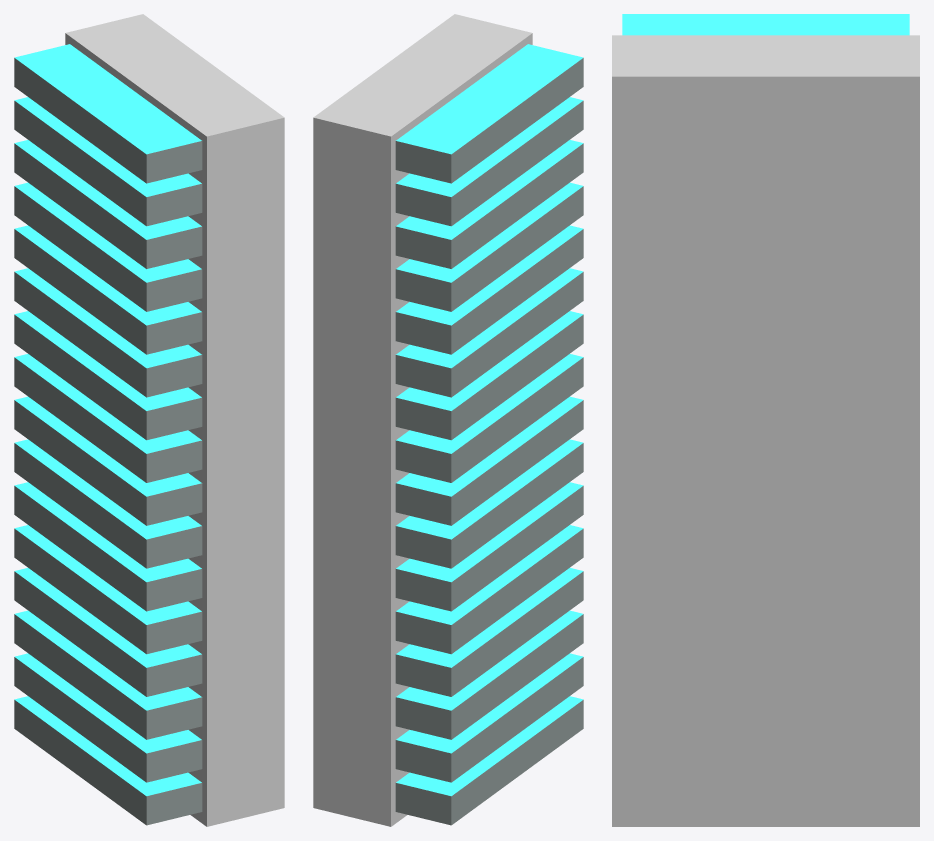
The model's file is walllight.fbx.
3 views of the same model, side by side, from view 1: azimuth 30°, elevation 25°; view 2: azimuth 150°, elevation 25°; view 3: azimuth 270°, elevation 25° (orthographic). The views are drawn at different scales.
Visible parts, largest first — view 1: Cube, Cube.008, Cube.002, Cube.001, Cube.006, Cube.007, Cube.013, Cube.000, Cube.003, Cube.004, Cube.009, Cube.010 (+5 smaller); view 2: Cube, Cube.008, Cube.002, Cube.001, Cube.006, Cube.007, Cube.013, Cube.000, Cube.003, Cube.004, Cube.009, Cube.010 (+5 smaller); view 3: Cube, Cube.008.
Part boxes in pixels (<box>): Cube: <box>65,14,284,826</box>; Cube.008: <box>14,44,202,183</box>; Cube.002: <box>14,225,202,354</box>; Cube.001: <box>14,696,202,825</box>; Cube.006: <box>14,396,202,525</box>; Cube.007: <box>14,439,202,568</box>; Cube.013: <box>14,653,202,782</box>; Cube.000: <box>14,182,202,311</box>; Cube.003: <box>14,268,202,397</box>; Cube.004: <box>14,311,202,440</box>; Cube.009: <box>14,482,202,611</box>; Cube.010: <box>14,525,202,654</box>; Cube: <box>313,14,532,826</box>; Cube.008: <box>395,44,583,183</box>; Cube.002: <box>395,225,583,354</box>; Cube.001: <box>395,696,583,825</box>; Cube.006: <box>395,396,583,525</box>; Cube.007: <box>395,439,583,568</box>; Cube.013: <box>395,653,583,782</box>; Cube.000: <box>395,182,583,311</box>; Cube.003: <box>395,268,583,397</box>; Cube.004: <box>395,311,583,440</box>; Cube.009: <box>395,482,583,611</box>; Cube.010: <box>395,525,583,654</box>; Cube: <box>612,35,919,826</box>; Cube.008: <box>622,14,909,35</box>.
Bounding box in the file's own units: 0.6535 × 3.23 × 1.2.
